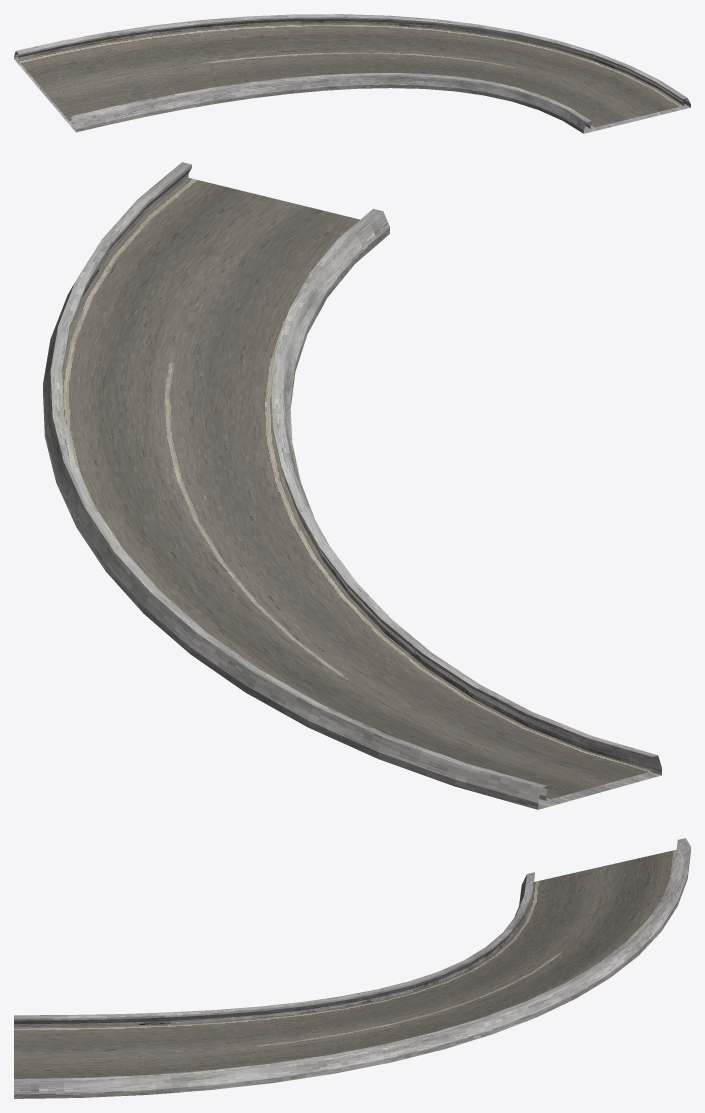
The model's file is road-Turn-Flat-HalfBankedLeft-Down2-Left-Size4.glb.
The picture shows the model from 3 angles, top to bottom: view 1: azimuth 30°, elevation 25°; view 2: azimuth 150°, elevation 25°; view 3: azimuth 270°, elevation 25°; orthographic projection. The views are drawn at different scales.
Visible parts, largest first — view 1: road-Turn-Flat-HalfBankedLeft-Down2-Left-Size4; view 2: road-Turn-Flat-HalfBankedLeft-Down2-Left-Size4; view 3: road-Turn-Flat-HalfBankedLeft-Down2-Left-Size4.
Part boxes in pixels (x1,y1,x2,y2): road-Turn-Flat-HalfBankedLeft-Down2-Left-Size4: (14, 14, 690, 133); road-Turn-Flat-HalfBankedLeft-Down2-Left-Size4: (43, 162, 661, 809); road-Turn-Flat-HalfBankedLeft-Down2-Left-Size4: (14, 838, 690, 1098).
Bounding box in the file's own units: 4 × 0.5938 × 4.
Materials: 2 (2 with a texture image).
